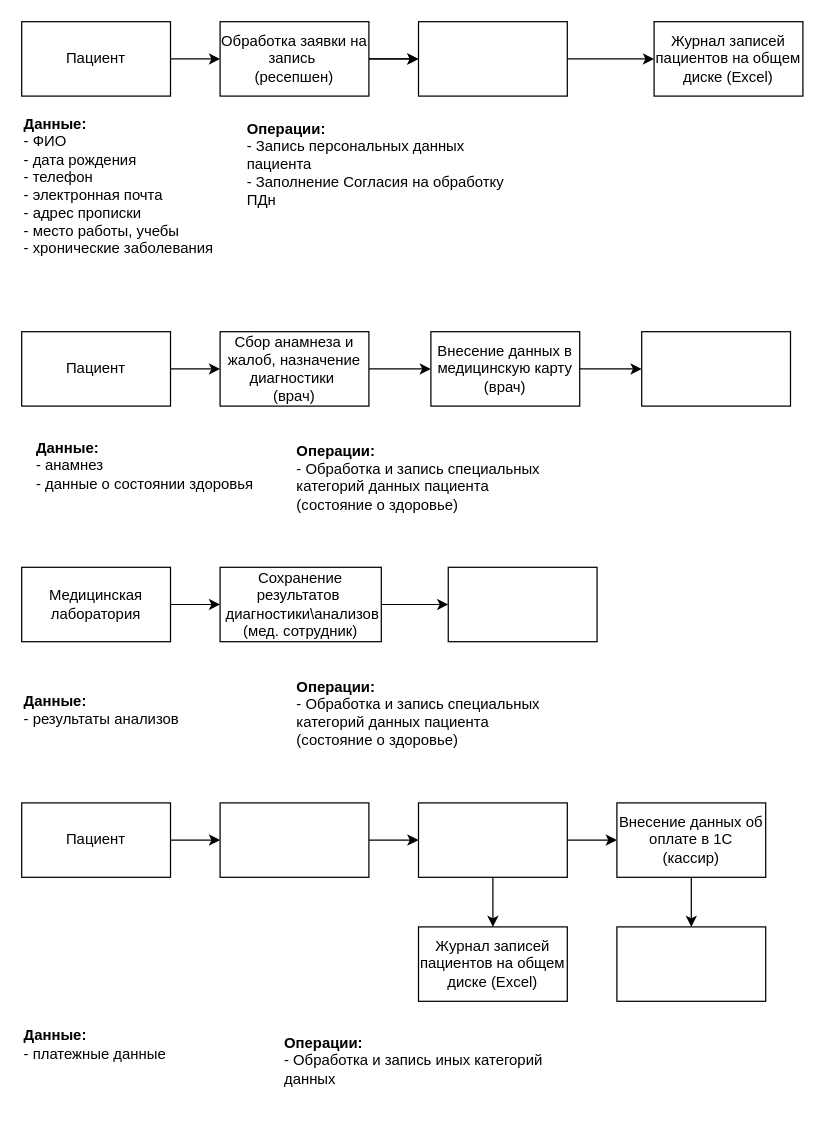
Image size: 825x1127. Some labels were removed from this diagram. Here are the shapes that lost their labels. From the top down, the box of each, then its label:
(417, 20, 567, 96): Внесение записей в журнал (ресепшн)
(640, 330, 790, 406): Медицинские карты пациентов на общем диске (Excel)
(447, 566, 597, 642): Реестр анализов на общем диске (JPG, PDF)
(219, 802, 369, 877): Прием платежа (кассир)
(417, 802, 567, 877): Внесение данных об оплате в Excel (кассир)
(616, 926, 766, 1001): 1С Бухгалтерия (файловой режим)
